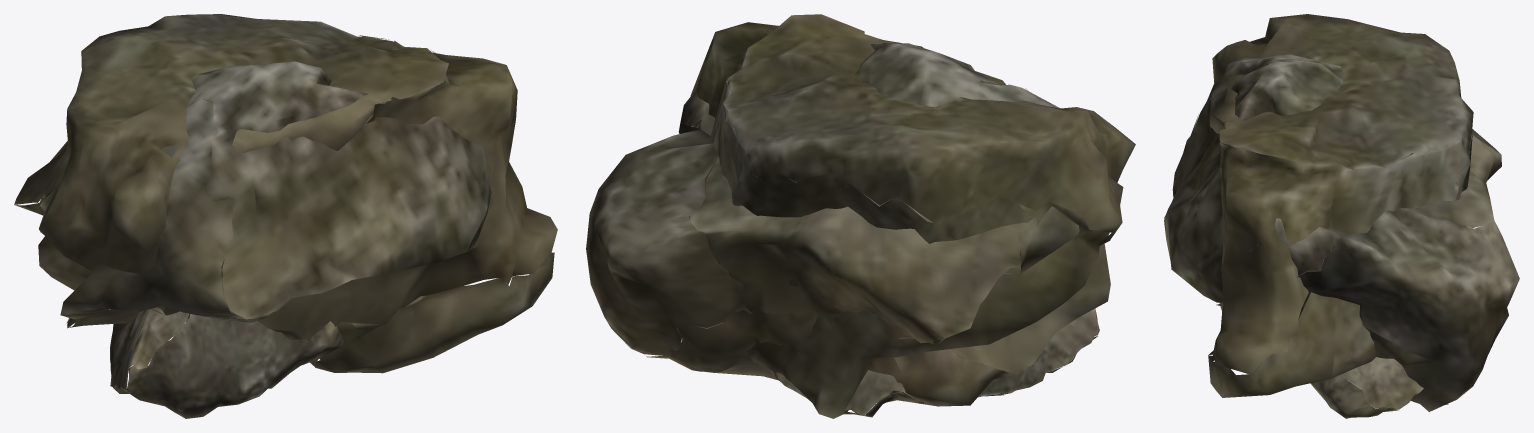
File: rock_moss_set_02.glb
The picture shows the model from 3 angles, left to right: view 1: azimuth 30°, elevation 25°; view 2: azimuth 150°, elevation 25°; view 3: azimuth 270°, elevation 25°; orthographic projection. The views are drawn at different scales.
Parts seen in each view (by area): view 1: rock_moss_set_02_rock13, rock_moss_set_02_rock11, rock_moss_set_02_rock09; view 2: rock_moss_set_02_rock13, rock_moss_set_02_rock11, rock_moss_set_02_rock09; view 3: rock_moss_set_02_rock13, rock_moss_set_02_rock11, rock_moss_set_02_rock09.
Part boxes in pixels (x1,y1,x2,y2): rock_moss_set_02_rock13: [38, 14, 557, 373]; rock_moss_set_02_rock11: [14, 61, 515, 328]; rock_moss_set_02_rock09: [110, 264, 427, 418]; rock_moss_set_02_rock13: [689, 14, 1135, 418]; rock_moss_set_02_rock11: [586, 43, 1110, 406]; rock_moss_set_02_rock09: [677, 308, 1099, 417]; rock_moss_set_02_rock13: [1208, 14, 1473, 397]; rock_moss_set_02_rock11: [1164, 54, 1519, 411]; rock_moss_set_02_rock09: [1289, 340, 1423, 418].
Bounding box in the file's own units: 2.1 × 1.31 × 1.53.
1 material, 1 textured.
